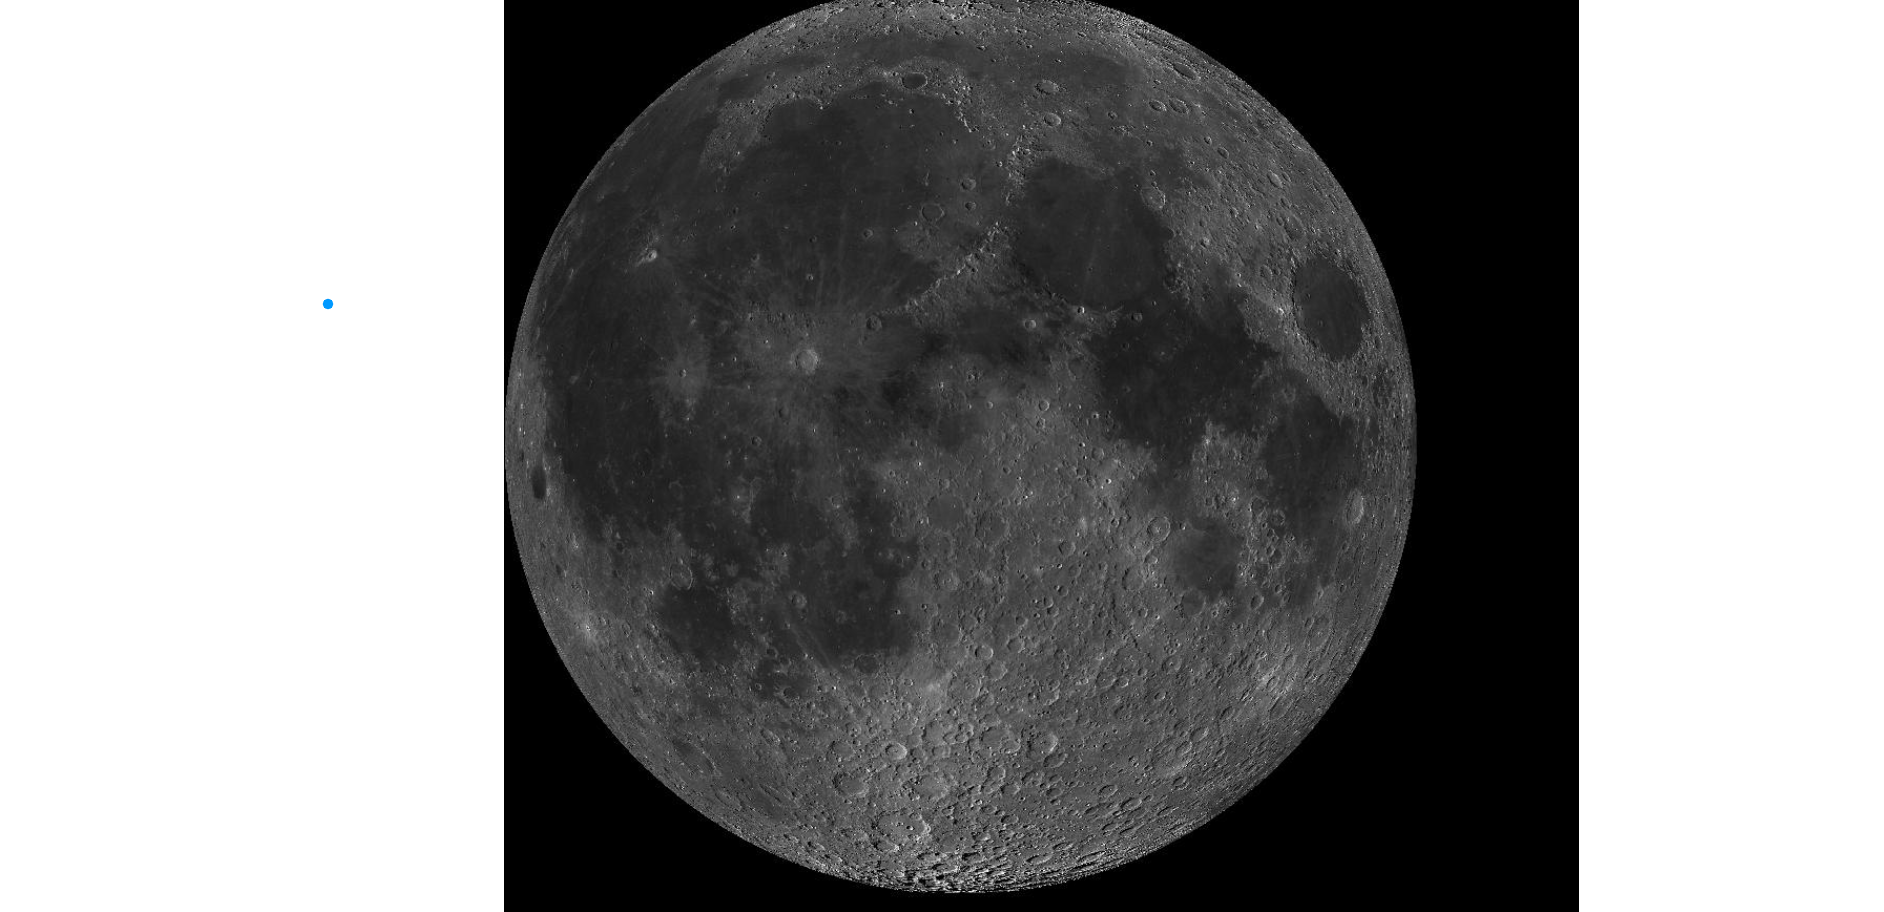crater: (725, 274, 869, 427), (1280, 239, 1375, 385), (634, 329, 728, 441), (851, 709, 934, 775), (552, 588, 639, 646), (523, 455, 582, 535), (655, 726, 735, 781), (906, 481, 972, 542), (869, 803, 934, 860), (971, 497, 1021, 558), (657, 543, 703, 602), (1332, 476, 1375, 534), (1133, 506, 1181, 552), (1158, 50, 1206, 94), (821, 765, 872, 805), (902, 186, 946, 231), (887, 59, 935, 97), (1301, 608, 1337, 655), (1256, 157, 1299, 192), (640, 232, 675, 273), (1126, 175, 1167, 209), (1153, 644, 1186, 681), (779, 588, 818, 616), (1030, 76, 1071, 103), (816, 482, 852, 513), (1009, 308, 1045, 338), (1036, 107, 1072, 135), (1021, 385, 1053, 413), (1245, 591, 1274, 618), (747, 61, 782, 81), (1215, 141, 1238, 166), (991, 460, 1020, 479), (1030, 417, 1054, 435)
